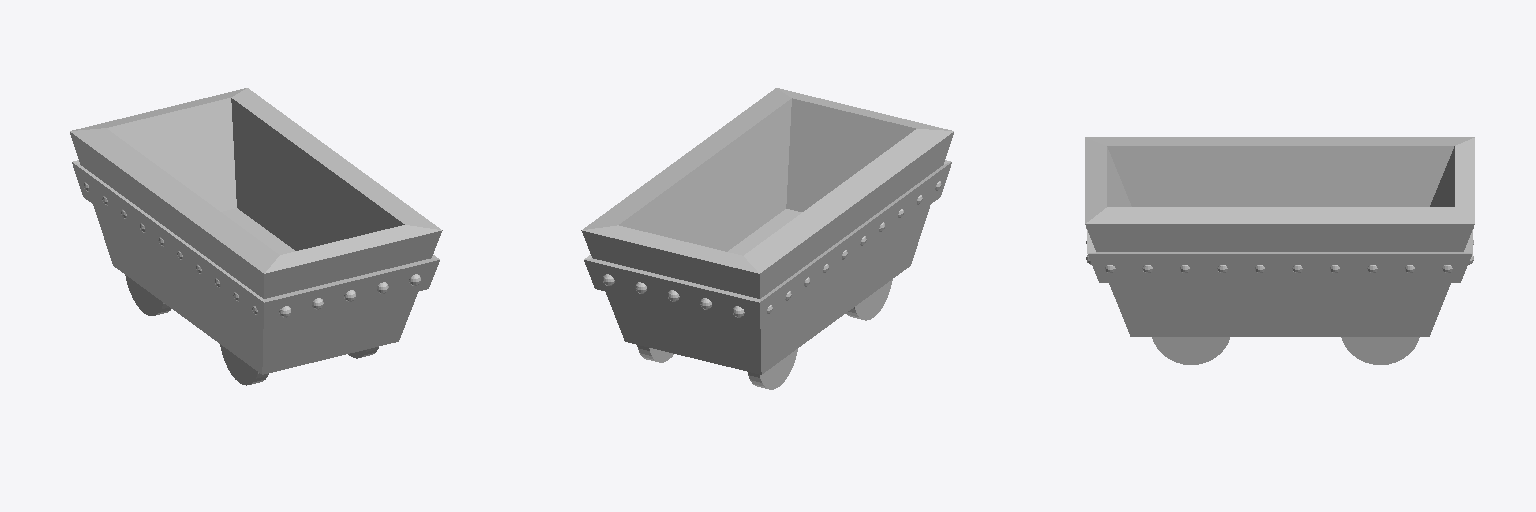
Rendered from Minecart.obj.
3 views of the same model, side by side, from view 1: azimuth 30°, elevation 25°; view 2: azimuth 150°, elevation 25°; view 3: azimuth 270°, elevation 25° (orthographic).
Visible parts, largest first — view 1: Sphere; view 2: Sphere; view 3: Sphere.
Part boxes in pixels (left/top/right/bottom): Sphere: left=70, top=88, right=442, bottom=385; Sphere: left=581, top=88, right=953, bottom=389; Sphere: left=1085, top=137, right=1474, bottom=364.
Size of the model in its own units: 2.61 by 2.22 by 4.94.